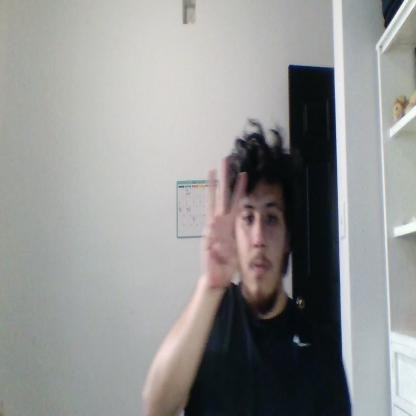W: (203, 164, 247, 283)
